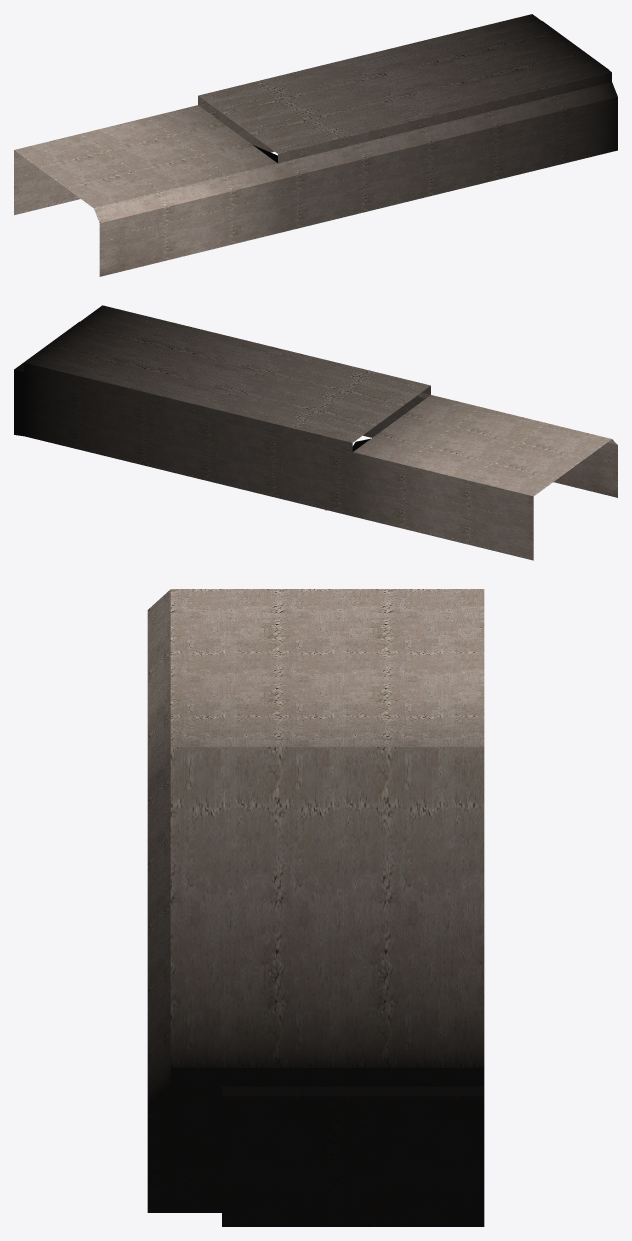
The model's file is M2_Zone4_FlyOver_Tunnel_A.glb.
The picture shows the model from 3 angles, top to bottom: view 1: azimuth 30°, elevation 25°; view 2: azimuth 150°, elevation 25°; view 3: azimuth 270°, elevation 25°; orthographic projection. The views are drawn at different scales.
Visible parts, largest first — view 1: M2_ZONE4_FLYOVER_TUNNEL_A; view 2: M2_ZONE4_FLYOVER_TUNNEL_A; view 3: M2_ZONE4_FLYOVER_TUNNEL_A.
Boxes of the visible parts, x1,y1,x2,y2 form: M2_ZONE4_FLYOVER_TUNNEL_A: [14, 14, 617, 276]; M2_ZONE4_FLYOVER_TUNNEL_A: [14, 305, 617, 560]; M2_ZONE4_FLYOVER_TUNNEL_A: [147, 589, 484, 1226].
Size of the model in its own units: 51.67 by 7.09 by 14.5.
3 materials, 2 textured.
